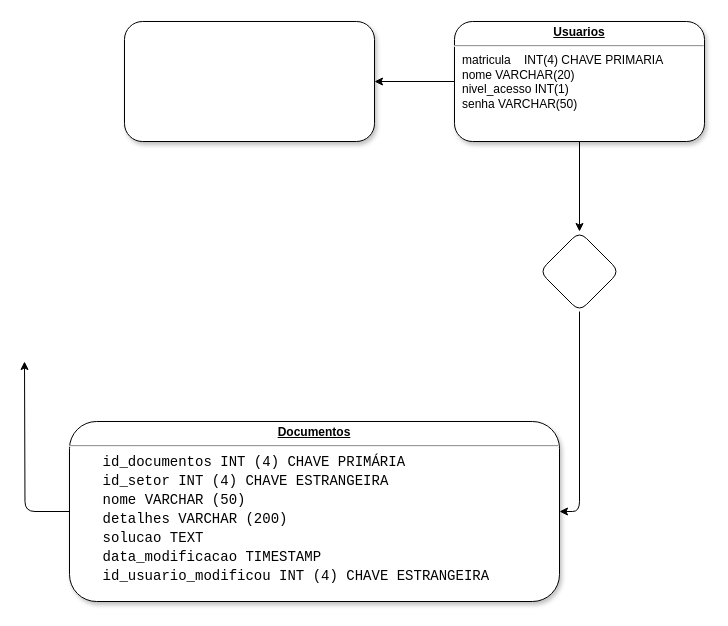
This 728x626 diagram has some shape labels left out. Each missing label, with the centre of its shape:
"Mantem" belongs at (579,271).
"Operadores matricula INT(4) CHAVE PRIMARIA nome VARCHAR(20)" belongs at (250,82).
